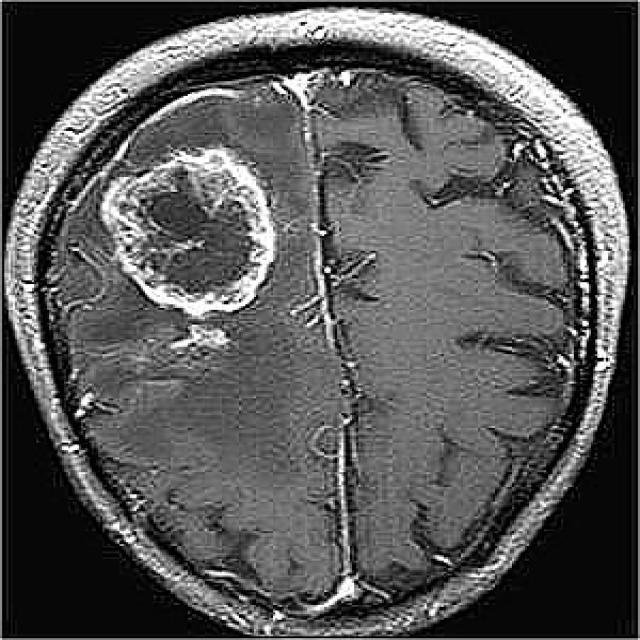Tumor-Cell: (88, 161, 290, 315)
